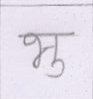u_matra: (48, 59, 66, 79)
